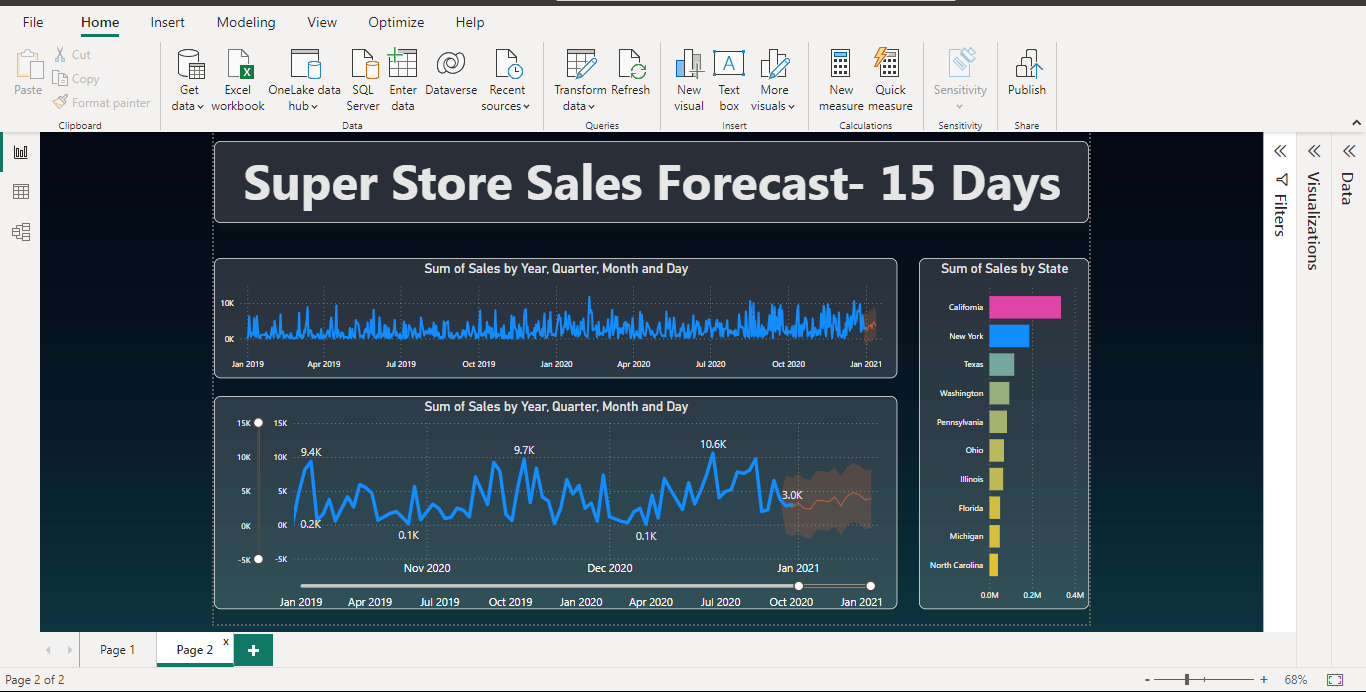

What the dashboard file says about the page in this screenshot:
{"tool":"powerbi","page":{"name":"Page 2","canvas":[1280,720],"ordinal":1},"visuals":[{"type":"lineChart","fields":{"Y":["Sum(SuperStore_Sales_Dataset.Sales)"],"Category":["SuperStore_Sales_Dataset.Order Date.Variation.Date Hierarchy.Year","SuperStore_Sales_Dataset.Order Date.Variation.Date Hierarchy.Quarter","SuperStore_Sales_Dataset.Order Date.Variation.Date Hierarchy.Month","SuperStore_Sales_Dataset.Order Date.Variation.Date Hierarchy.Day"]},"box":[0,184.4,999.5,175.6],"z":0},{"type":"lineChart","fields":{"Y":["Sum(SuperStore_Sales_Dataset.Sales)"],"Category":["SuperStore_Sales_Dataset.Order Date.Variation.Date Hierarchy.Year","SuperStore_Sales_Dataset.Order Date.Variation.Date Hierarchy.Quarter","SuperStore_Sales_Dataset.Order Date.Variation.Date Hierarchy.Month","SuperStore_Sales_Dataset.Order Date.Variation.Date Hierarchy.Day"]},"box":[0,386.3,999.5,311.7],"z":1000},{"type":"textbox","box":[0,13.2,1280.5,120],"z":2000},{"type":"clusteredBarChart","fields":{"Y":["Sum(SuperStore_Sales_Dataset.Sales)"],"Category":["SuperStore_Sales_Dataset.State"]},"box":[1031.7,184.4,248.8,513.7],"z":3000}]}

Visuals, with their boxes on the page's 1280x720 design canvas (x1, y1, x2, y2). These are canvas units, not pixel positions in the 1366x692 screenshot, which may show the page scaled, cropped or inside an application window:
lineChart - Sum(SuperStore_Sales_Dataset.Sales) x SuperStore_Sales_Dataset.Order Date.Variation.Date Hierarchy.Year: 0 184 1000 360
lineChart - Sum(SuperStore_Sales_Dataset.Sales) x SuperStore_Sales_Dataset.Order Date.Variation.Date Hierarchy.Year: 0 386 1000 698
textbox: 0 13 1280 133
clusteredBarChart - Sum(SuperStore_Sales_Dataset.Sales) x SuperStore_Sales_Dataset.State: 1032 184 1280 698
